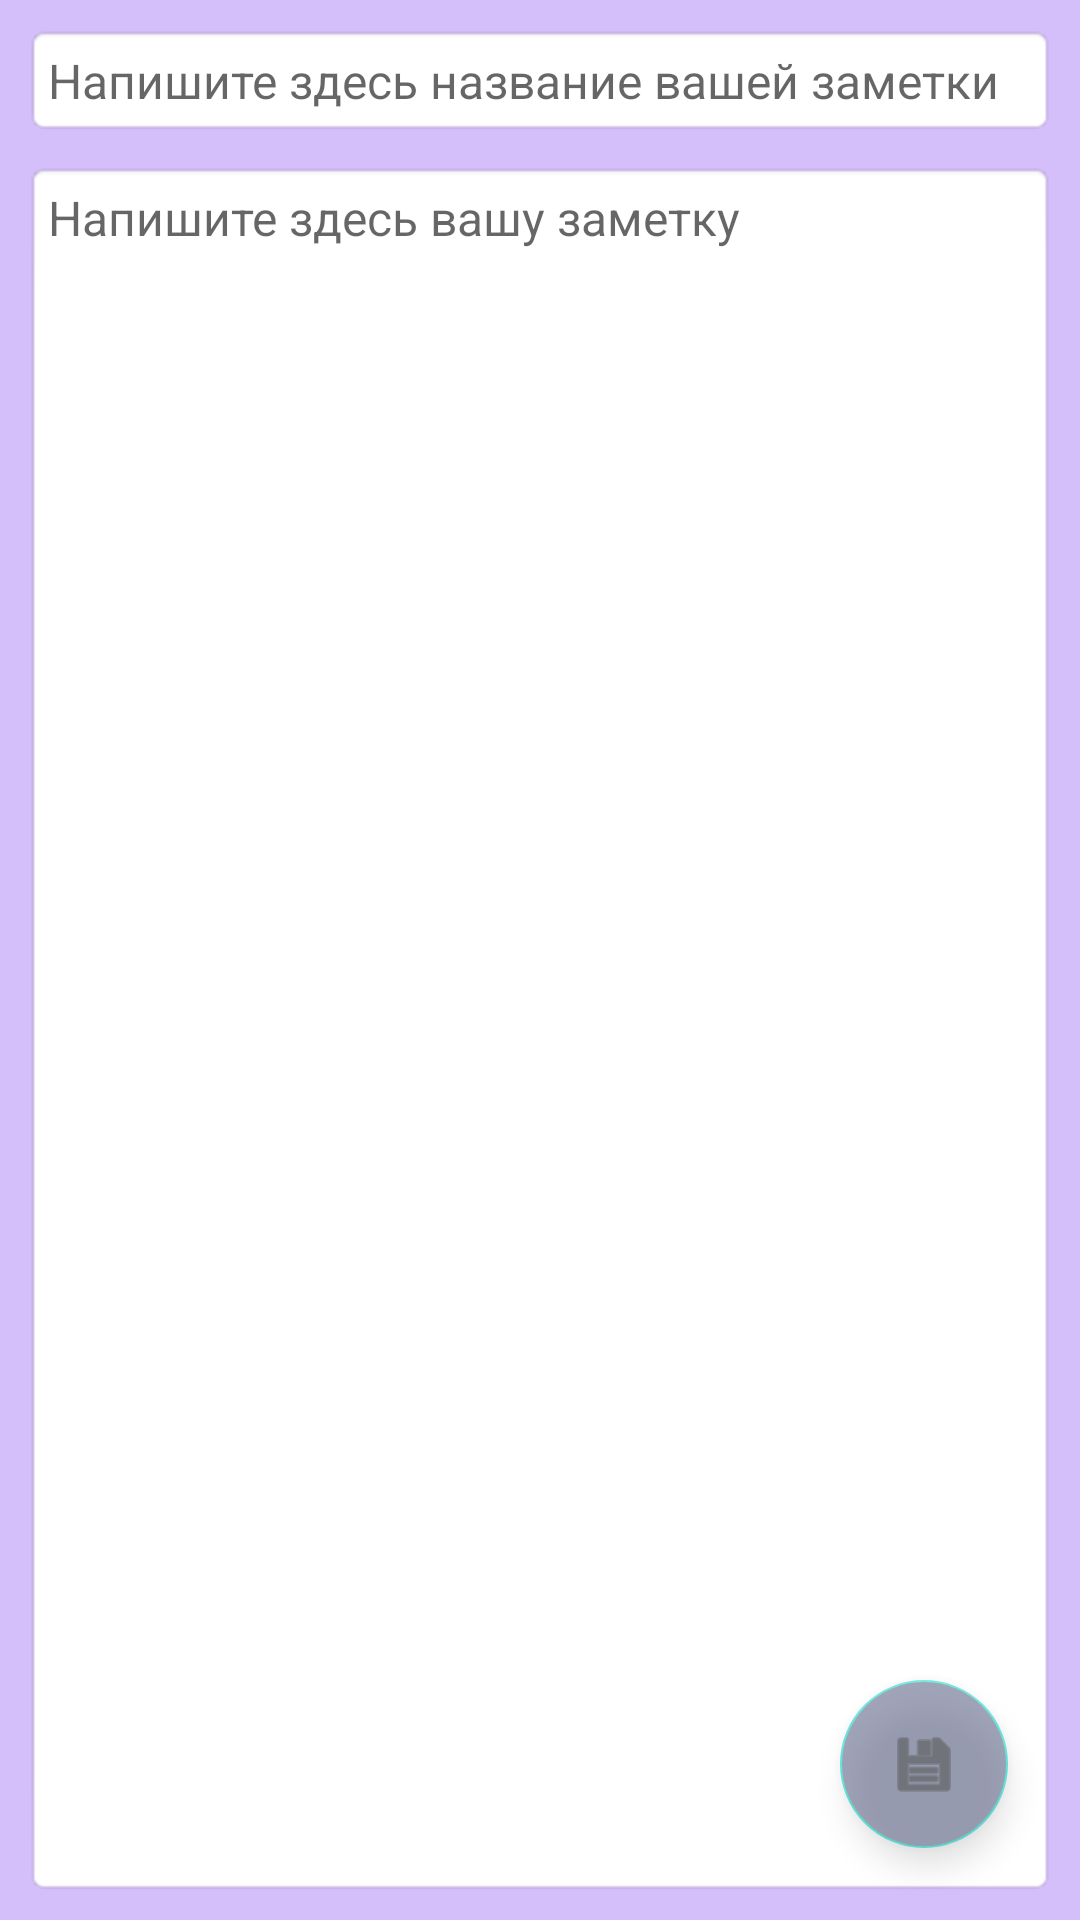

Point at icon controls on the screen. Image size 1080x1920, points as (x,y).
save: (924,1764)
